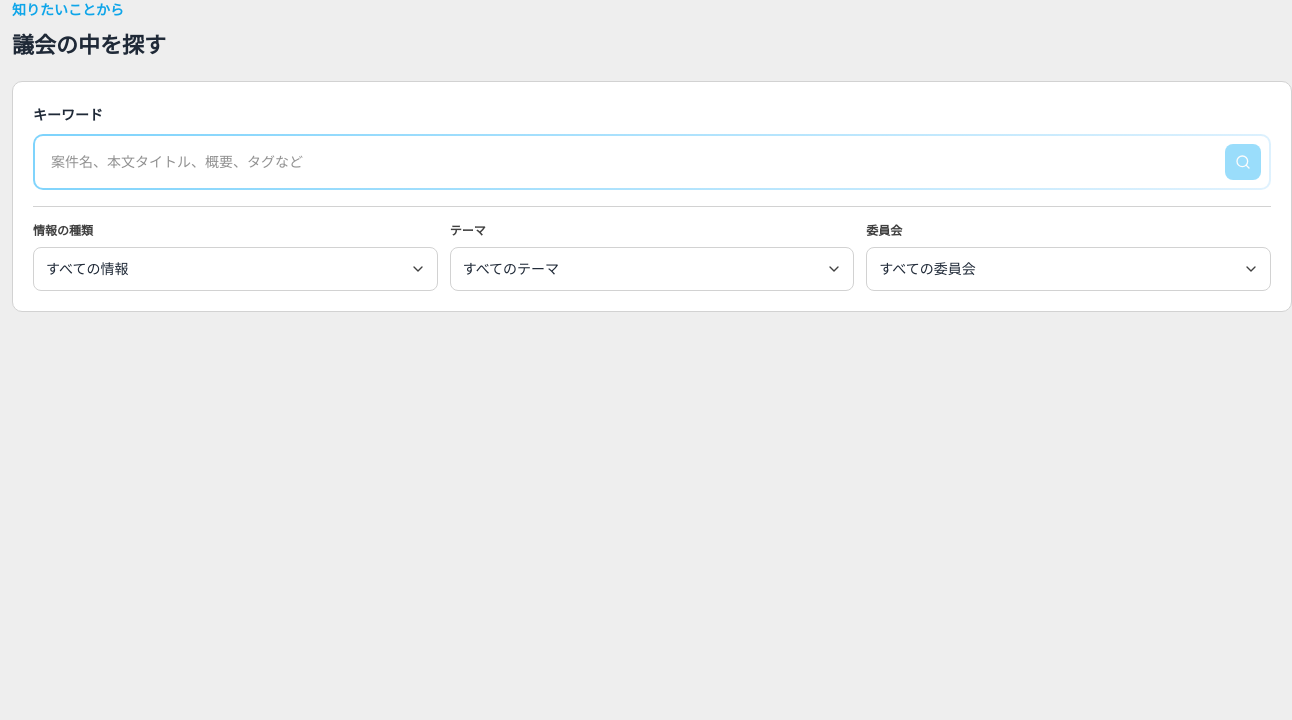
CouncilSearchSection › キーワード検索結果を1列5件ずつページ送りする
Type "学校" into the search field labelled "キーワード" at (652, 162), box x1=35 y1=136 x2=1269 y2=188
Then press Enter
(page scrolled)
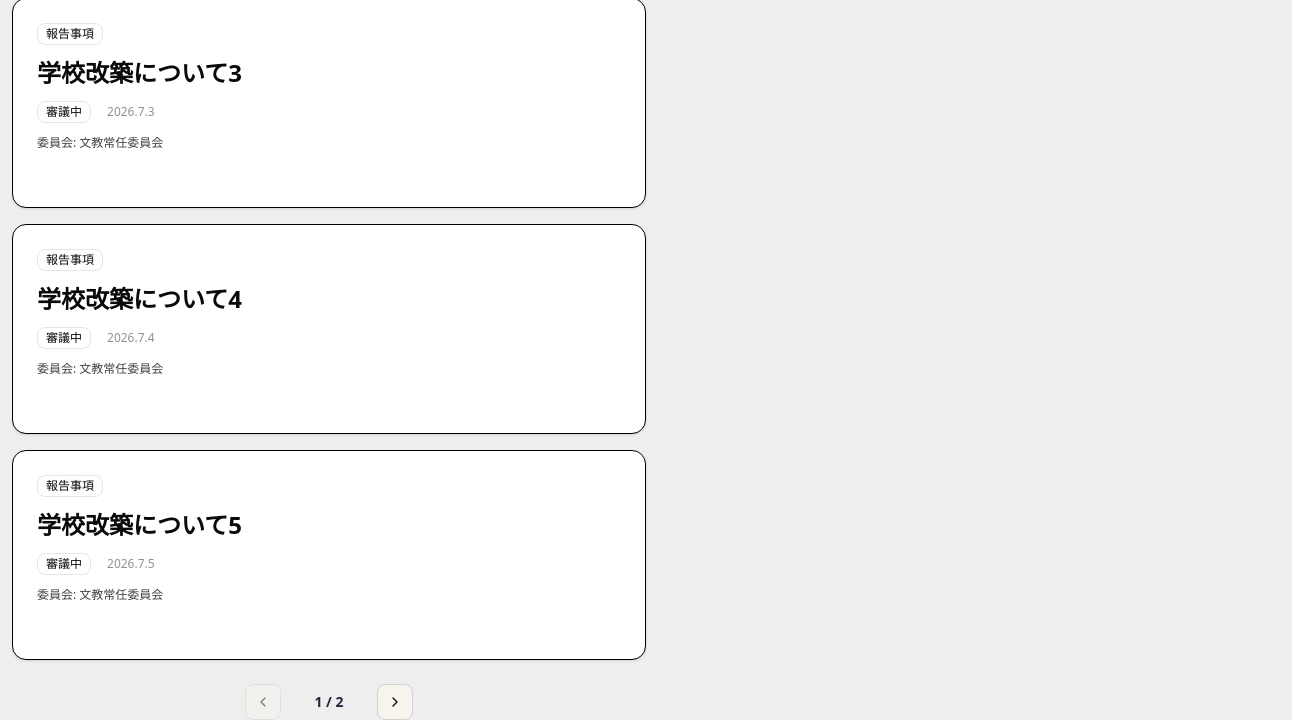
Expected: the text "学校改築について6" is not shown
Expected: the number of links is 5
Expected: the text "1 / 2" is shown, x1=314 y1=692 x2=344 y2=710
Click the button named "次のページ" at (395, 702), box x1=377 y1=684 x2=413 y2=719
(page scrolled)
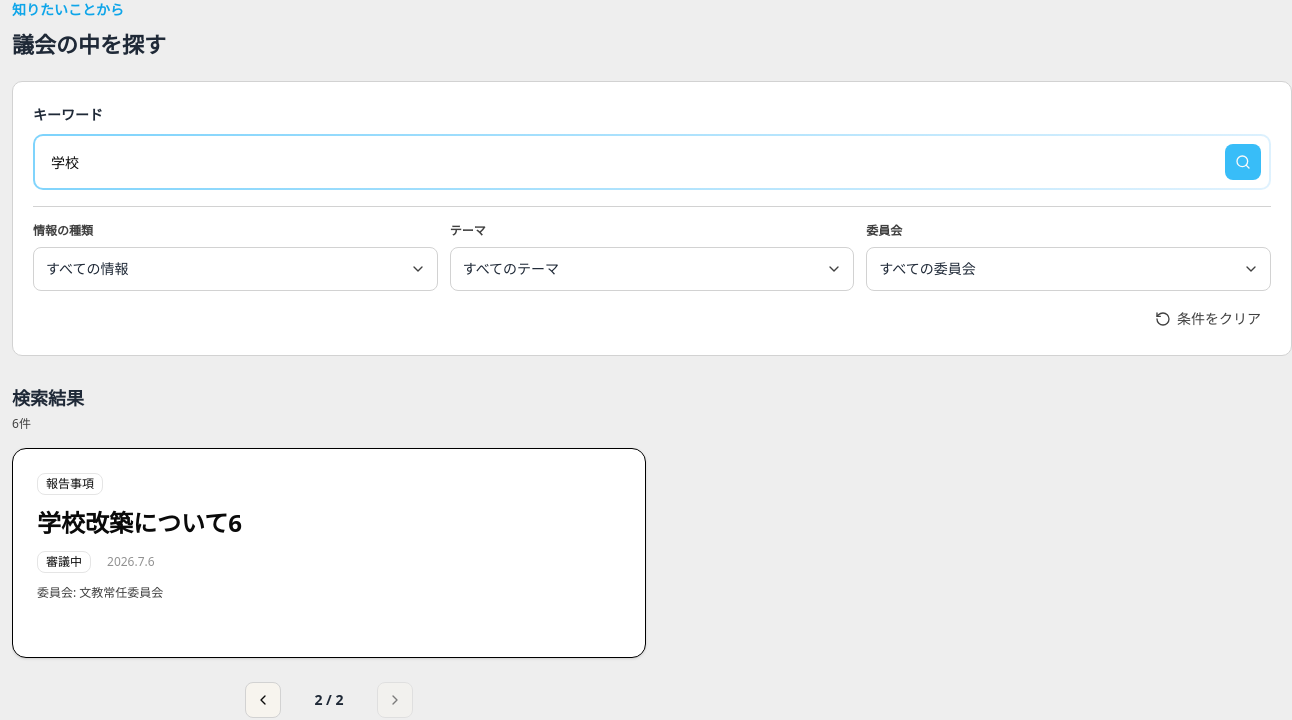
Expected: the number of links is 1, x1=12 y1=448 x2=646 y2=658
Expected: the text "学校改築について6" is shown, x1=37 y1=506 x2=242 y2=538
Expected: the text "2 / 2" is shown, x1=314 y1=690 x2=344 y2=708
